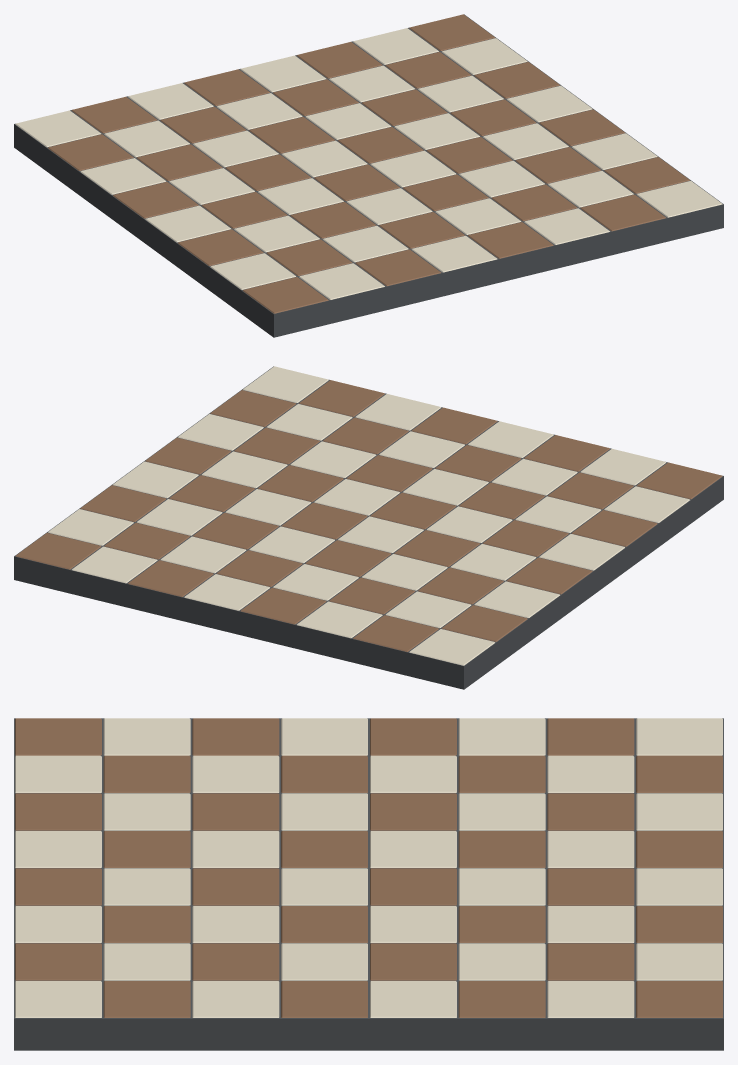
The model's file is floor_an_check.glb.
3 renders of one model, top to bottom at view 1: azimuth 30°, elevation 25°; view 2: azimuth 150°, elevation 25°; view 3: azimuth 270°, elevation 25°, orthographic. The views are drawn at different scales.
Parts seen in each view (by area): view 1: floor_an_check; view 2: floor_an_check; view 3: floor_an_check.
Part boxes in pixels (<box>): floor_an_check: <box>14,14,723,337</box>; floor_an_check: <box>14,366,723,689</box>; floor_an_check: <box>14,718,723,1050</box>.
Bounding box in the file's own units: 4 × 0.206 × 4.
